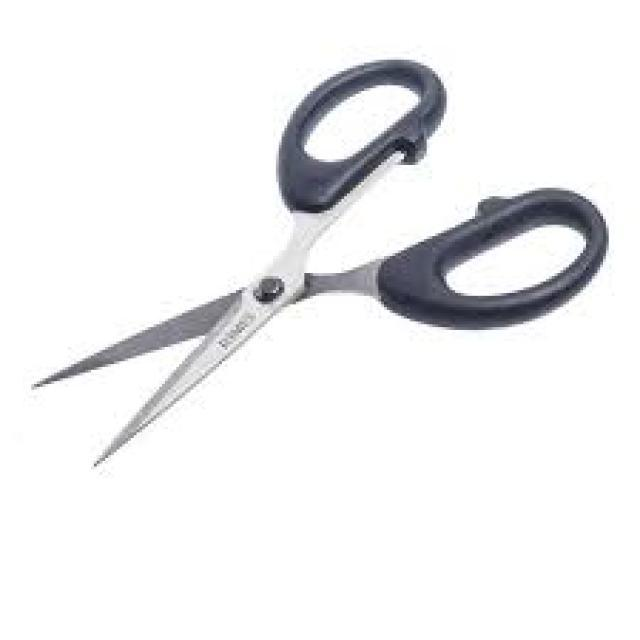Scissors: (12, 16, 622, 503)
